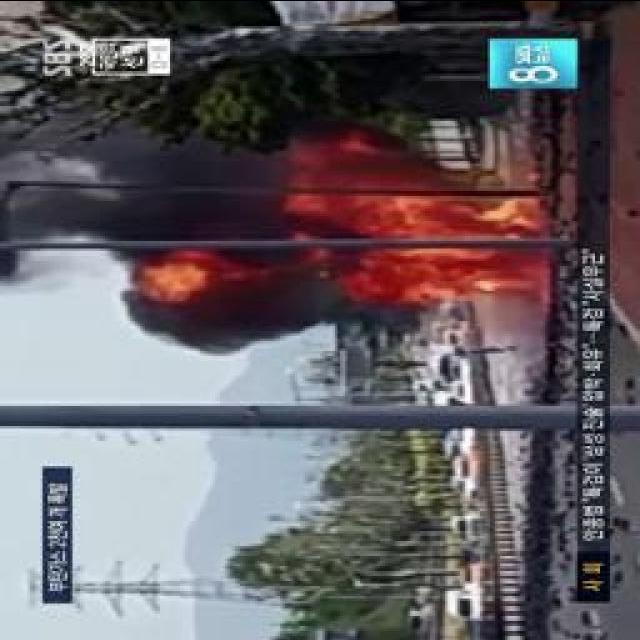Fire: (377, 194, 542, 288)
